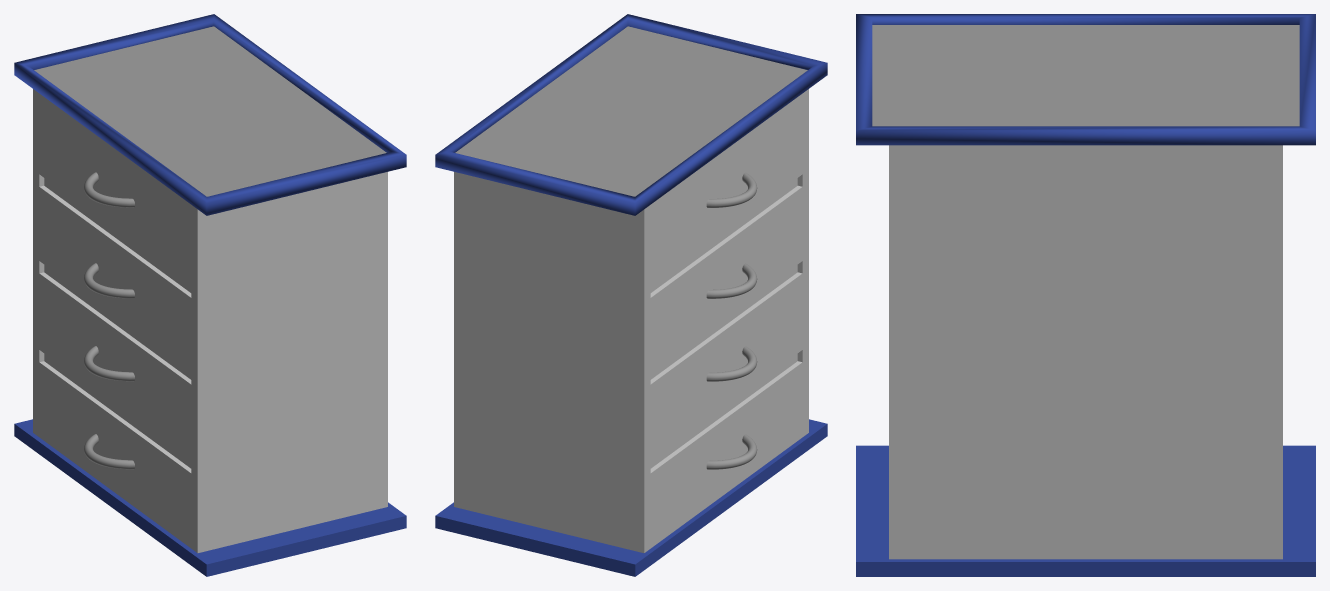
Rendered from gabinete.fbx.
3 renders of one model, left to right at view 1: azimuth 30°, elevation 25°; view 2: azimuth 150°, elevation 25°; view 3: azimuth 270°, elevation 25°, orthographic. The views are drawn at different scales.
Visible parts, largest first — view 1: gabinete; view 2: gabinete; view 3: gabinete.
Boxes of the visible parts, x1,y1,x2,y2 form: gabinete: (14,14,406,576); gabinete: (435,14,827,576); gabinete: (856,14,1315,576).
Bounding box in the file's own units: 92.81 × 150 × 140.
